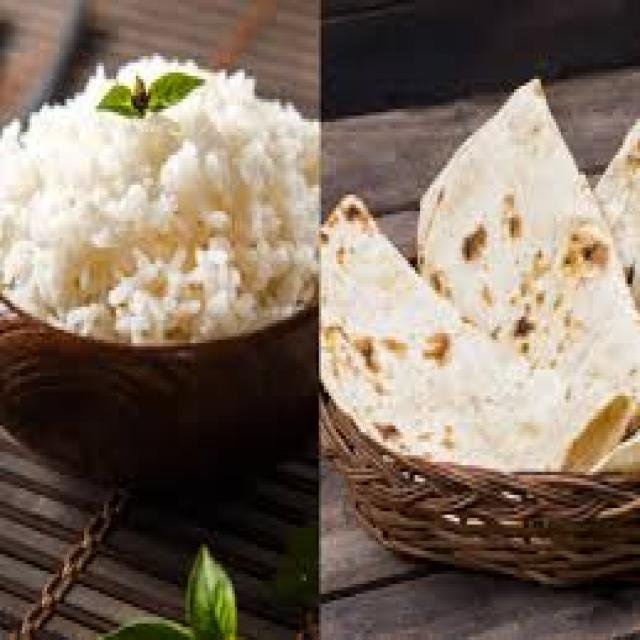ROTI: (0, 56, 319, 340), (415, 76, 638, 468)
